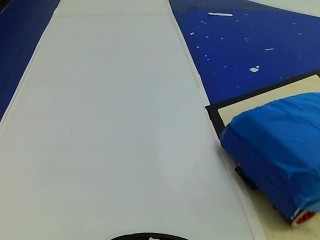car: (225, 83, 318, 232)
